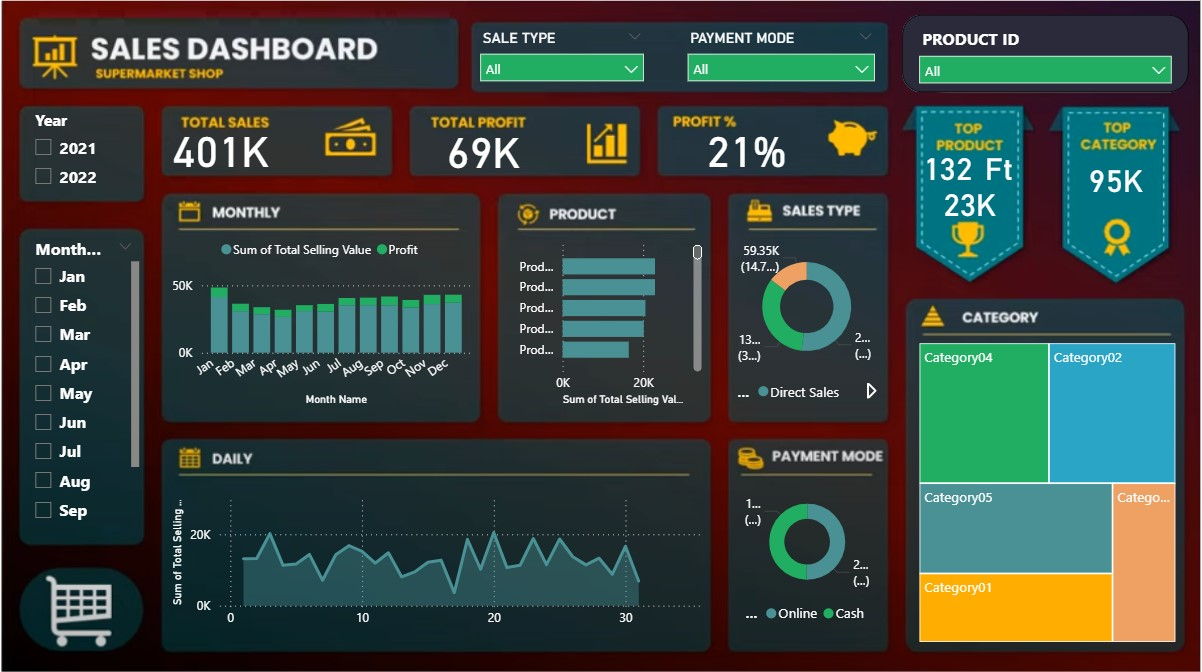

Layout of this report page (visuals, bound fields, positions):
{"tool":"powerbi","page":{"name":"Page 1","canvas":[1280,720],"ordinal":0},"visuals":[{"type":"slicer","fields":{"Values":["InputData.Month Name"]},"box":[65.4,254,121.2,300.2],"z":0},{"type":"slicer","fields":{"Values":["InputData.Year"]},"box":[65.4,127,121.2,92.4],"z":1000},{"type":"slicer","fields":{"Values":["InputData.PAYMENT MODE"]},"box":[715.8,48.1,205.9,57.7],"z":2000},{"type":"slicer","fields":{"Values":["InputData.SALE TYPE"]},"box":[509.9,48.1,182.8,57.7],"z":3000},{"type":"card","fields":{"Values":["InputData.Profit"]},"box":[450.3,130.9,146.2,73.1],"z":4000},{"type":"card","fields":{"Values":["Sum(InputData.Total Selling Value)"]},"box":[202,132.8,121.2,67.3],"z":5000},{"type":"card","fields":{"Values":["InputData.Profit %"]},"box":[692.7,123.2,182.8,88.5],"z":6000},{"type":"card","fields":{"Values":["Sum(InputData.Total Selling Value)"]},"box":[958.3,200.1,94.3,52],"z":7000},{"type":"card","fields":{"Values":["Sum(InputData.QUANTITY)"]},"box":[914,159.7,132.8,59.7],"z":8000},{"type":"card","fields":{"Values":["Sum(InputData.Total Selling Value)"]},"box":[1106.5,171.3,86.6,53.9],"z":9000},{"type":"card","fields":{"Values":["Min(InputData.MasterData.UOM)"]},"box":[981.4,161.6,98.1,57.7],"z":10000},{"type":"columnChart","fields":{"Category":["InputData.Month Name"],"Y":["Sum(InputData.Total Selling Value)","InputData.Profit"]},"box":[209.7,252.1,306,179],"z":11000},{"type":"clusteredBarChart","fields":{"Y":["Sum(InputData.Total Selling Value)"],"Category":["InputData.MasterData.PRODUCT"]},"box":[536.9,254,207.8,177],"z":12000},{"type":"areaChart","fields":{"Y":["Sum(InputData.Total Selling Value)"],"Category":["InputData.Day"]},"box":[209.7,504.2,534.9,150.1],"z":13000},{"type":"donutChart","fields":{"Y":["Sum(InputData.Total Selling Value)"],"Category":["InputData.SALE TYPE"]},"box":[769.7,254,148.2,177],"z":14000},{"type":"donutChart","fields":{"Y":["Sum(InputData.Total Selling Value)"],"Category":["InputData.PAYMENT MODE"]},"box":[775.5,500.3,136.6,150.1],"z":15000},{"type":"treemap","fields":{"Group":["InputData.MasterData.CATEGORY"],"Values":["Sum(InputData.Total Selling Value)"]},"box":[950.6,359.8,263.6,306],"z":16000},{"type":"slicer","fields":{"Values":["InputData.PRODUCT ID"]},"box":[946.5,43.7,263.4,74.6],"z":16001}]}

Visuals, with their boxes in screenshot pixels (x1, y1, x2, y2), scaled from the page's 1280x720 canvas onto the 1202x672 screenshot:
slicer - InputData.Month Name: 61 237 175 517
slicer - InputData.Year: 61 119 175 205
slicer - InputData.PAYMENT MODE: 672 45 866 99
slicer - InputData.SALE TYPE: 479 45 650 99
card - InputData.Profit: 423 122 560 190
card - Sum(InputData.Total Selling Value): 190 124 304 187
card - InputData.Profit %: 650 115 822 198
card - Sum(InputData.Total Selling Value): 900 187 988 235
card - Sum(InputData.QUANTITY): 858 149 983 205
card - Sum(InputData.Total Selling Value): 1039 160 1120 210
card - Min(InputData.MasterData.UOM): 922 151 1014 205
columnChart - InputData.Month Name x Sum(InputData.Total Selling Value): 197 235 484 402
clusteredBarChart - Sum(InputData.Total Selling Value) x InputData.MasterData.PRODUCT: 504 237 699 402
areaChart - Sum(InputData.Total Selling Value) x InputData.Day: 197 471 699 611
donutChart - Sum(InputData.Total Selling Value) x InputData.SALE TYPE: 723 237 862 402
donutChart - Sum(InputData.Total Selling Value) x InputData.PAYMENT MODE: 728 467 857 607
treemap - InputData.MasterData.CATEGORY x Sum(InputData.Total Selling Value): 893 336 1140 621
slicer - InputData.PRODUCT ID: 889 41 1136 110
